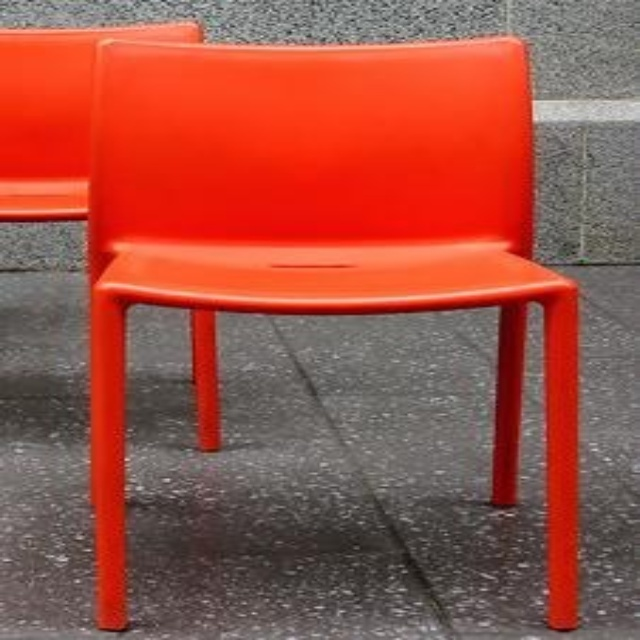obstacle: (91, 37, 575, 628)
